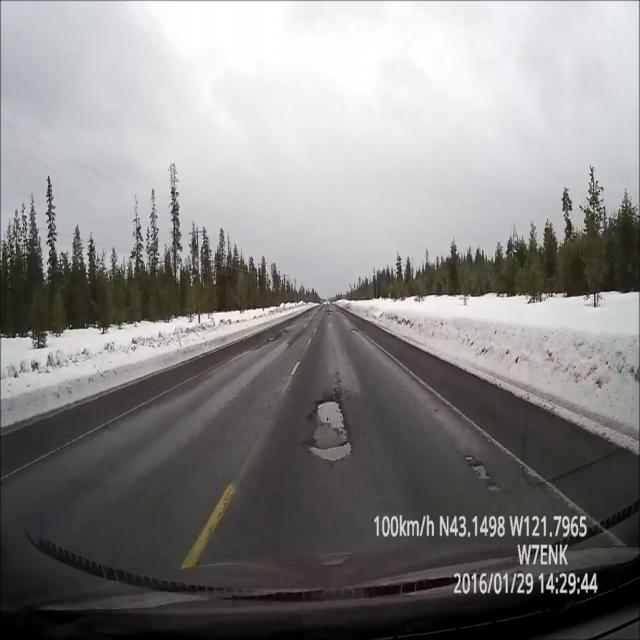Pothole: (311, 398, 356, 465), (472, 462, 492, 480), (267, 330, 288, 343), (350, 328, 360, 334), (326, 310, 332, 312)
